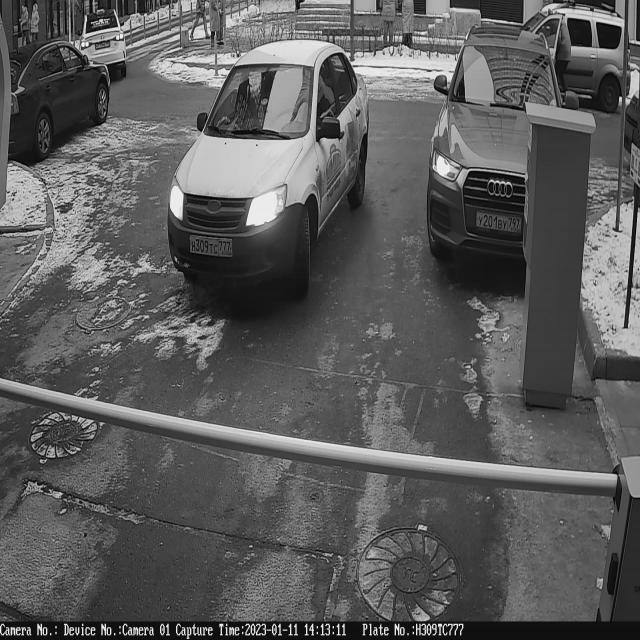car-plate-numbers: (183, 234, 238, 267)
